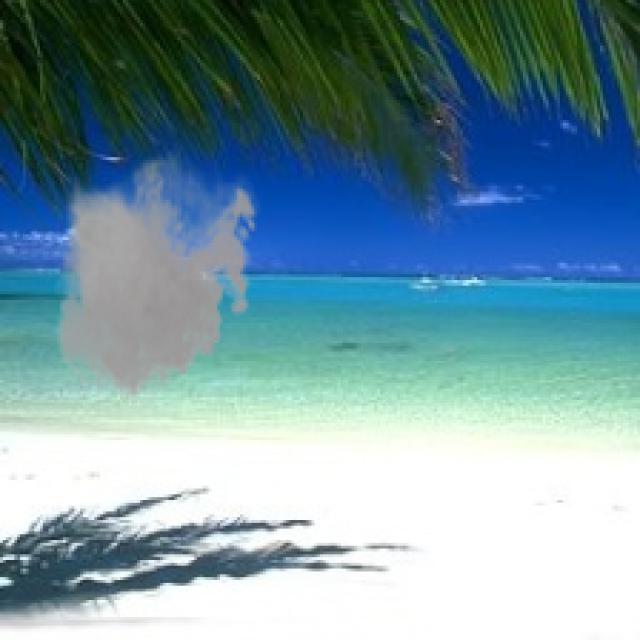smoke: (48, 143, 263, 411)
